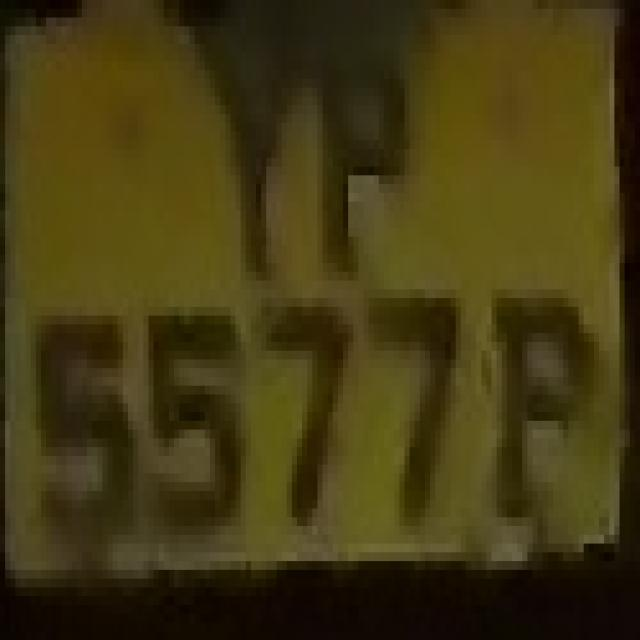5: (138, 255, 251, 552), (20, 272, 128, 552)
7: (240, 281, 358, 544), (358, 272, 466, 517)
P: (471, 272, 620, 552), (302, 35, 425, 316)
Y: (200, 9, 318, 289)
